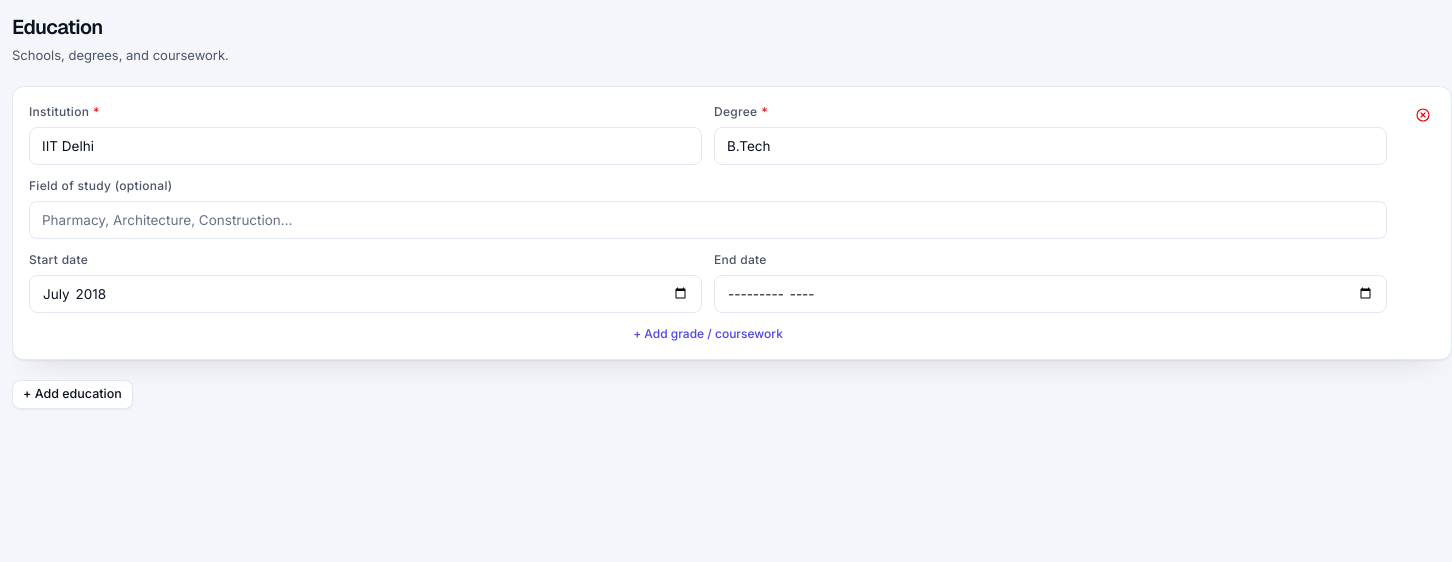
Test: EducationForm › grading system › starts new entries on the scale used in the detected country
Click the button "+ Add grade / coursework": (708, 334) [29,325,1387,343]
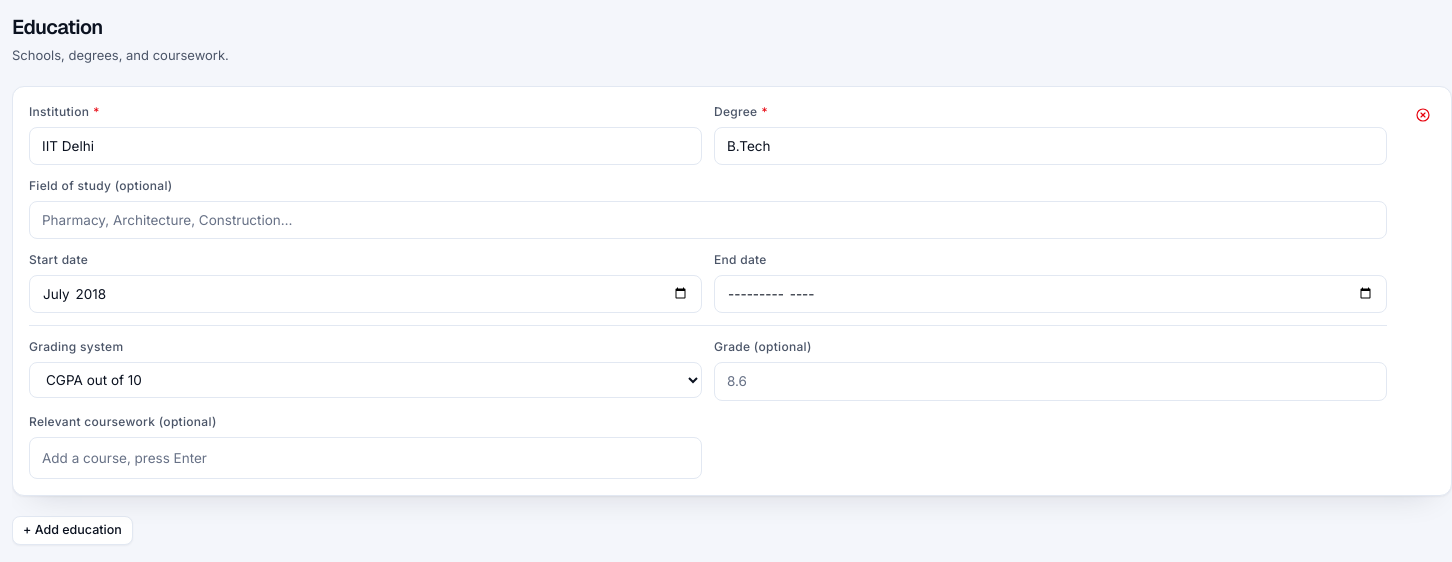
Check: the dropdown labelled "Grading system" shows "CGPA out of 10", box [29,362,702,398]
Check: the field with placeholder "8.6" is shown, box [714,362,1387,401]
